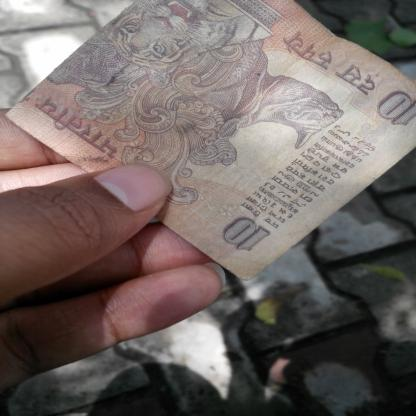Old10Back: (6, 1, 416, 281)
